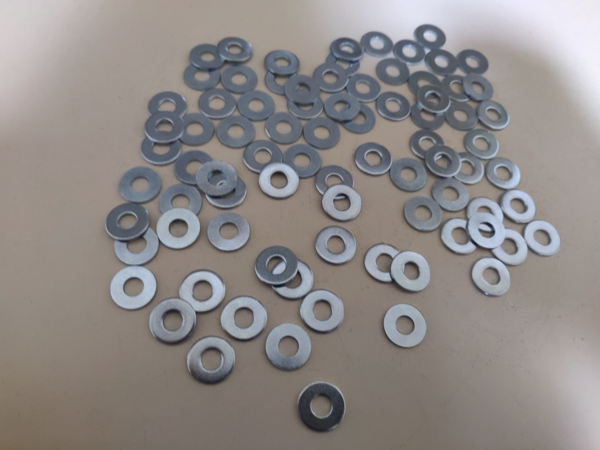circle: (297, 382, 346, 433), (188, 337, 236, 385), (150, 297, 196, 346), (267, 324, 312, 373), (221, 297, 269, 341), (111, 266, 157, 310), (300, 290, 345, 334), (181, 270, 225, 315), (382, 305, 428, 348), (156, 209, 201, 251), (115, 225, 159, 267), (255, 246, 299, 286), (270, 260, 314, 300), (314, 226, 357, 266), (471, 258, 512, 299), (391, 252, 431, 294), (208, 213, 251, 252), (364, 244, 405, 284), (107, 203, 150, 240), (197, 160, 237, 199), (119, 167, 162, 203), (160, 185, 204, 220), (322, 185, 362, 223), (258, 163, 300, 199), (205, 173, 247, 209), (175, 150, 216, 186), (244, 140, 284, 176), (442, 218, 479, 256), (492, 230, 530, 267), (523, 221, 562, 257), (315, 165, 354, 201), (143, 131, 183, 166), (468, 213, 505, 250), (466, 197, 504, 233), (404, 197, 443, 232), (284, 141, 323, 176), (177, 112, 216, 147), (390, 158, 428, 193), (217, 115, 256, 149), (433, 177, 471, 211), (354, 143, 392, 177), (265, 111, 303, 145), (145, 111, 184, 144), (148, 92, 188, 124), (500, 190, 537, 224), (238, 89, 276, 122), (486, 158, 523, 191), (304, 117, 341, 150), (449, 153, 485, 186), (426, 145, 462, 178), (340, 103, 377, 134), (324, 92, 361, 122), (200, 89, 237, 119), (184, 61, 222, 90), (466, 128, 499, 161), (445, 99, 479, 131), (409, 130, 444, 161), (288, 90, 324, 120), (285, 75, 321, 105), (325, 51, 361, 81), (410, 101, 446, 131), (476, 100, 510, 131), (314, 64, 349, 94), (377, 92, 411, 122), (265, 66, 300, 95), (222, 64, 257, 93), (346, 72, 381, 101), (190, 44, 227, 71), (409, 71, 442, 101), (376, 58, 410, 87), (217, 37, 253, 64), (418, 85, 451, 114), (264, 51, 301, 76), (462, 73, 495, 101), (442, 75, 475, 102), (362, 31, 394, 58), (394, 40, 426, 66), (415, 24, 447, 50), (426, 50, 458, 76), (331, 38, 364, 62), (458, 50, 489, 75)
